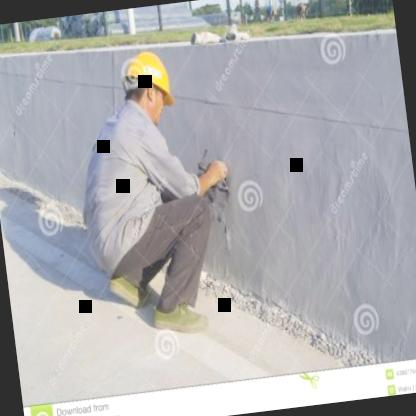helmet: (118, 44, 178, 131)
